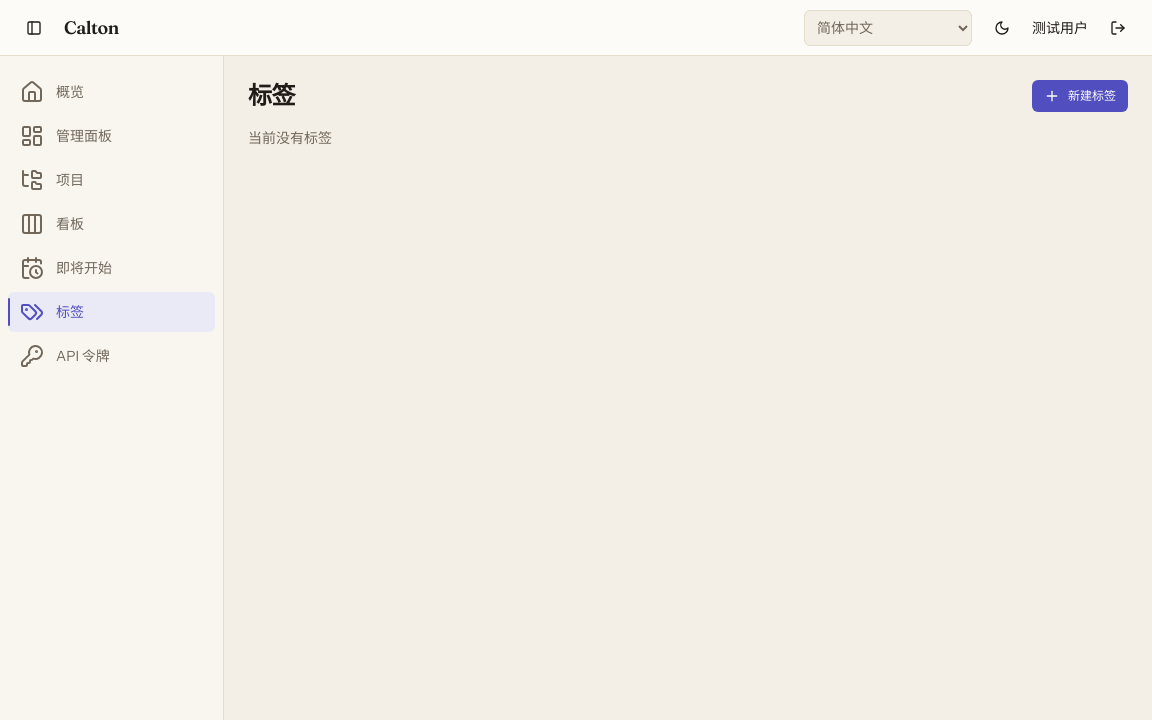
Scenario: 新建标签 › PUT 才是新建；成功后关弹窗并重新拉列表
This screenshot has width=1152, height=720.
Step 1. Click the button with test id "new-label" → (1080, 96), box [1032, 80, 1128, 112]
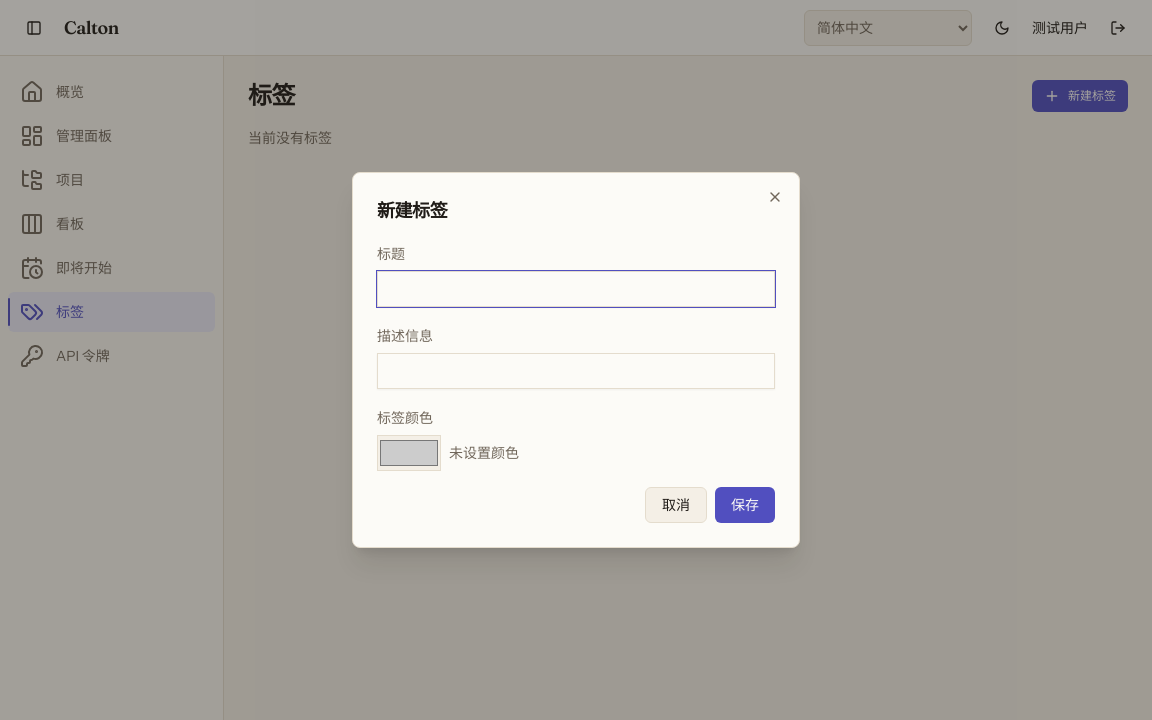
Step 2. Type "新标签" into the field with test id "label-title-input" → (576, 289), box [377, 271, 775, 307]
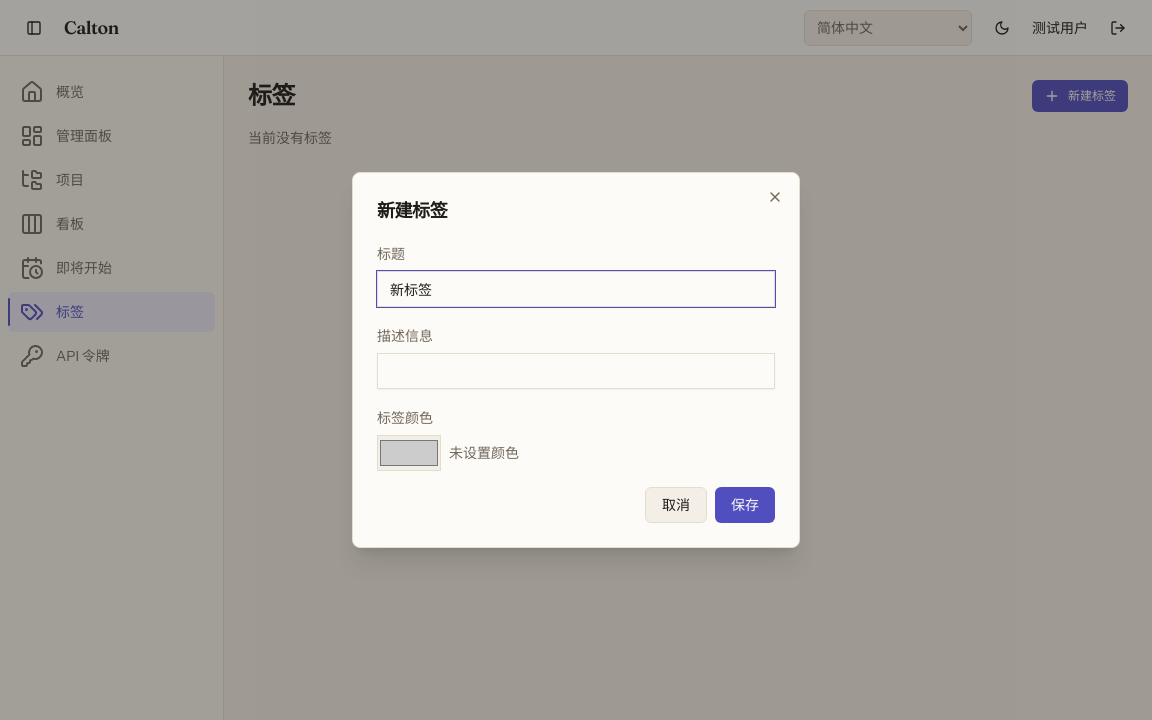
Step 3. Click the button with test id "label-form-submit" → (745, 505), box [715, 487, 775, 523]
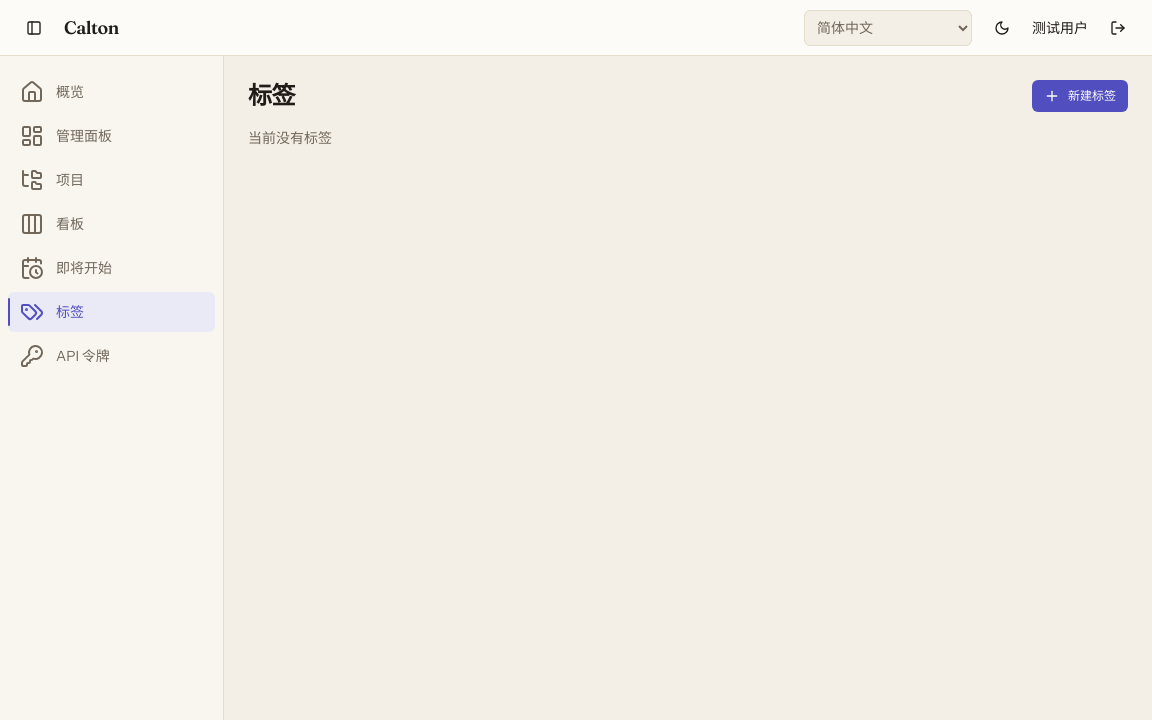
Now the dialog is gone
